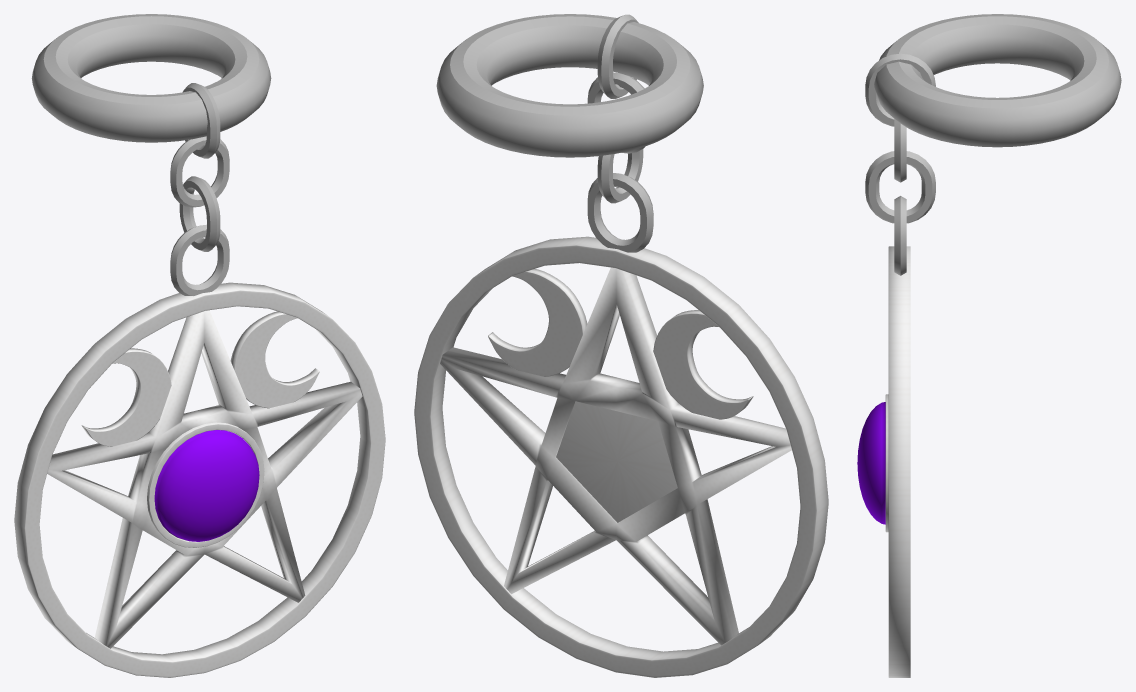
File: Charm-Pentagram.fbx
The picture shows the model from 3 angles, left to right: view 1: azimuth 30°, elevation 25°; view 2: azimuth 150°, elevation 25°; view 3: azimuth 270°, elevation 25°; orthographic projection. The views are drawn at different scales.
Visible parts, largest first — view 1: Sphere.002, CharmPentagram, Charm.006; view 2: Sphere.002, CharmPentagram, Charm.006; view 3: CharmPentagram, Sphere.002, Charm.006.
Part boxes in pixels (box(x1,y1,x2,y2)): Sphere.002: box(14, 282, 385, 677); CharmPentagram: box(31, 14, 271, 142); Charm.006: box(170, 83, 229, 295); Sphere.002: box(414, 236, 828, 677); CharmPentagram: box(436, 14, 703, 157); Charm.006: box(587, 14, 653, 252); CharmPentagram: box(874, 14, 1121, 147); Sphere.002: box(857, 246, 910, 677); Charm.006: box(865, 53, 935, 275).
Size of the model in its own units: 25.61 by 39.55 by 15.66.
